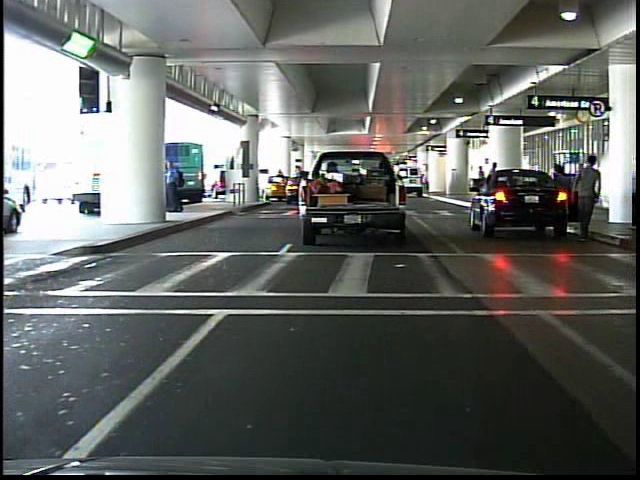person: (566, 153, 607, 242), (164, 149, 188, 216)
